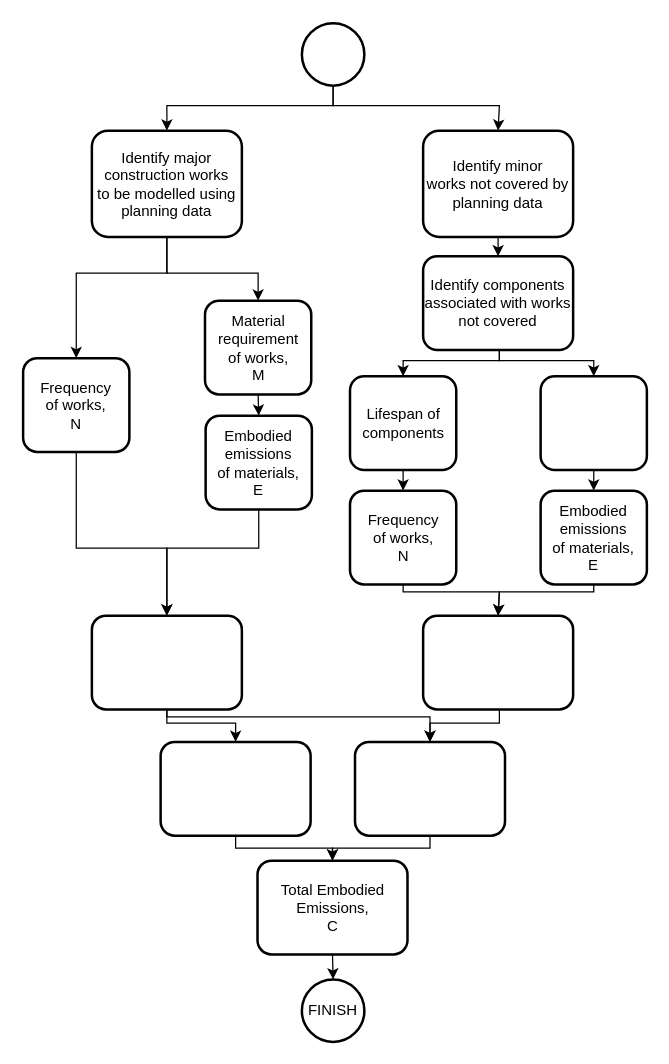
This 669x1064 diagram has some shape labels left out. The shapes that lost their labels are listed below. From the top down, each one's centre as x and y in pixels, then its label:
At (332,53): "START".
At (593,422): "Material requirement of components, M".
At (166,662): "Embodied emissions of major works".
At (497,662): "Embodied emissions of minor works".
At (235,788): "Initial Embodied Emissions".
At (429,788): "Recurring Embodied Emissions".
